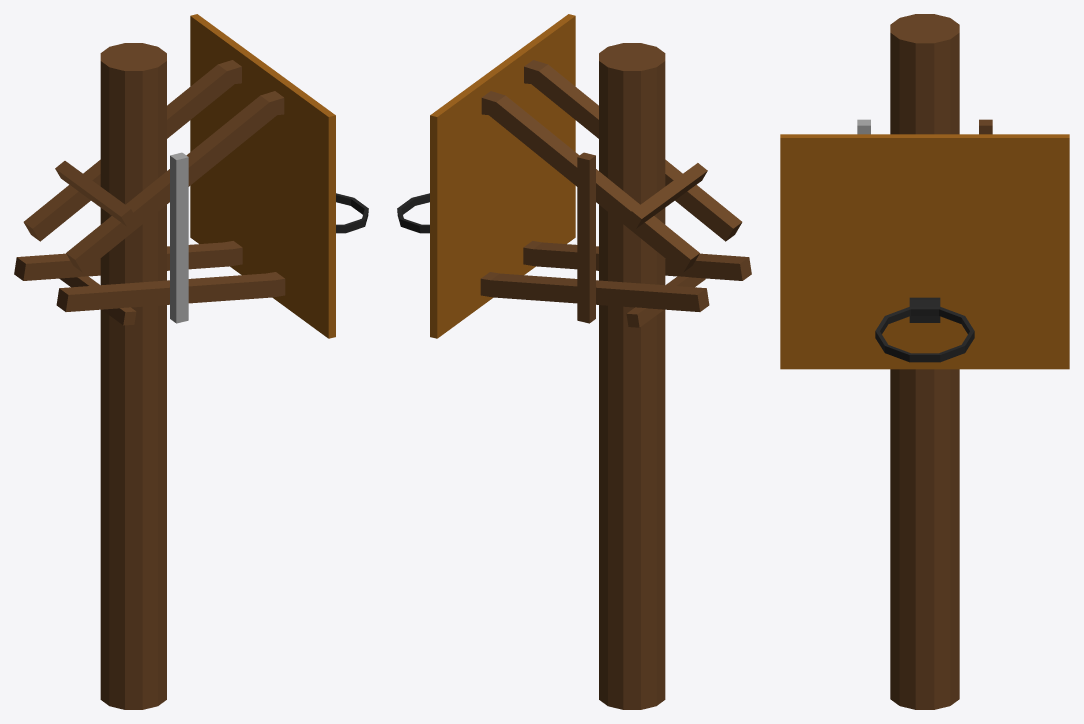
The model's file is basketaball ring.fbx.
The picture shows the model from 3 angles, left to right: view 1: azimuth 30°, elevation 25°; view 2: azimuth 150°, elevation 25°; view 3: azimuth 270°, elevation 25°; orthographic projection. The views are drawn at different scales.
Visible parts, largest first — view 1: Cube.007; view 2: Cube.007; view 3: Cube.007.
Boxes of the visible parts, x1=… form: Cube.007: x1=14, y1=14, x2=368, y2=709; Cube.007: x1=397, y1=14, x2=751, y2=709; Cube.007: x1=780, y1=14, x2=1069, y2=709.
Size of the model in its own units: 202 by 384 by 151.
